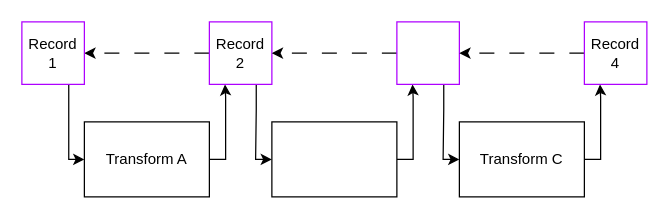
Some shapes in this 669 by 219 pixel diagram are drawn without their labels. The shapes that lost their labels are listed below. From the top down, each one's box as (x1, y1, x2, y2) in pixels, then its label:
(396, 21, 459, 84): Record 3
(271, 121, 397, 197): Transform B
